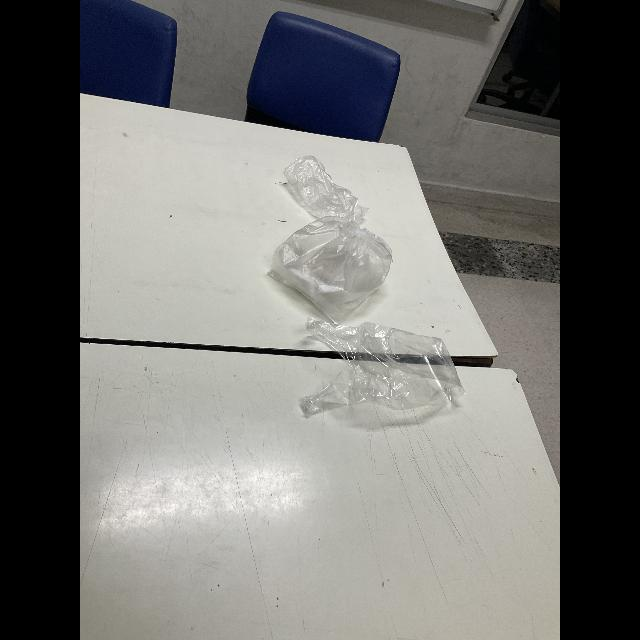plastic_bag: (278, 322, 466, 428), (256, 214, 402, 314)
scrap_paper: (290, 156, 368, 220)
